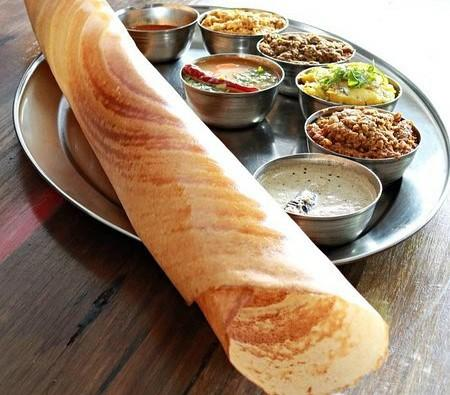CoconutChutney: (258, 164, 376, 217)
Dosa: (23, 1, 389, 395)
